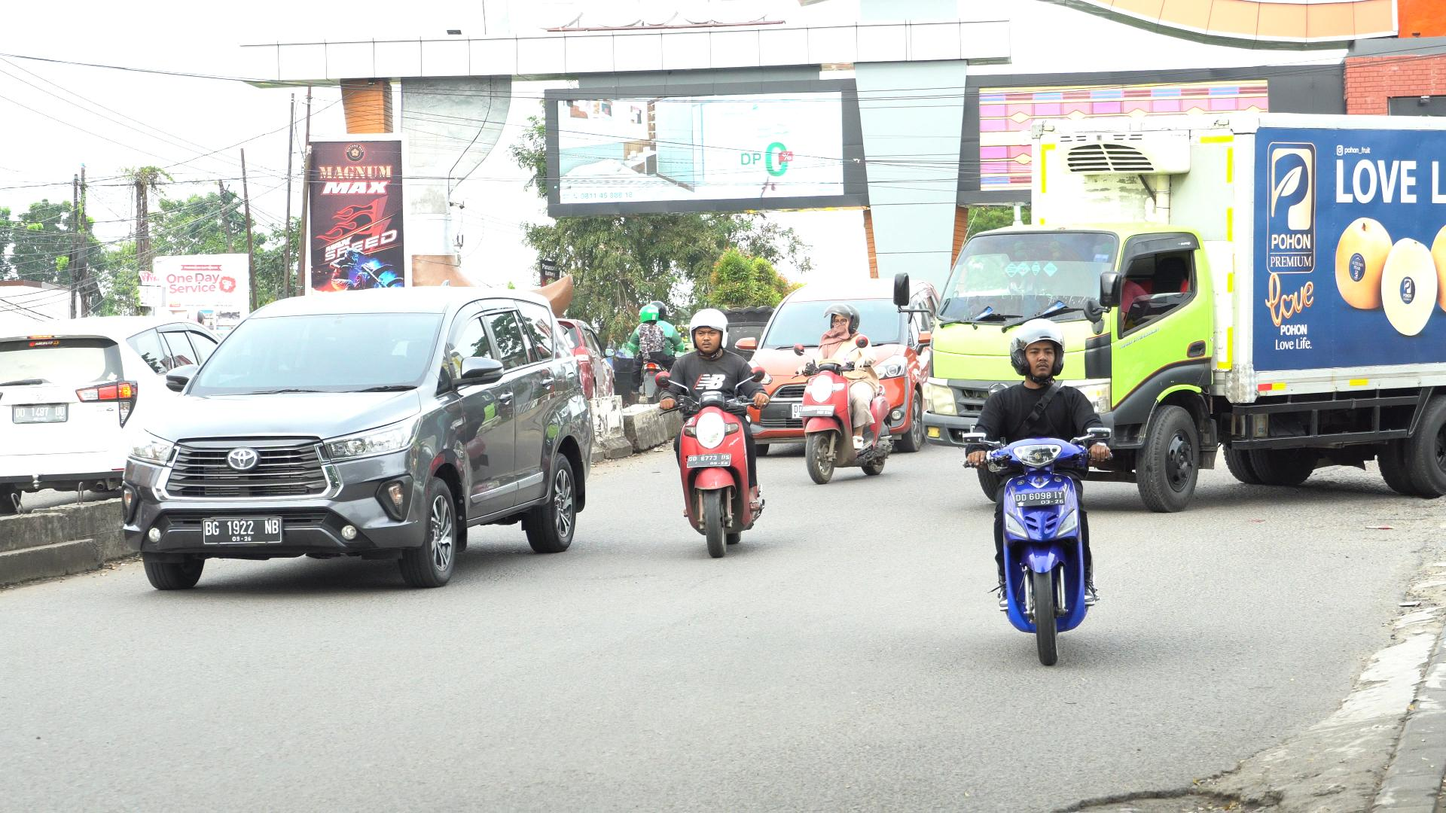number-plate: (1014, 491, 1065, 504), (687, 456, 729, 466), (800, 405, 836, 416)
